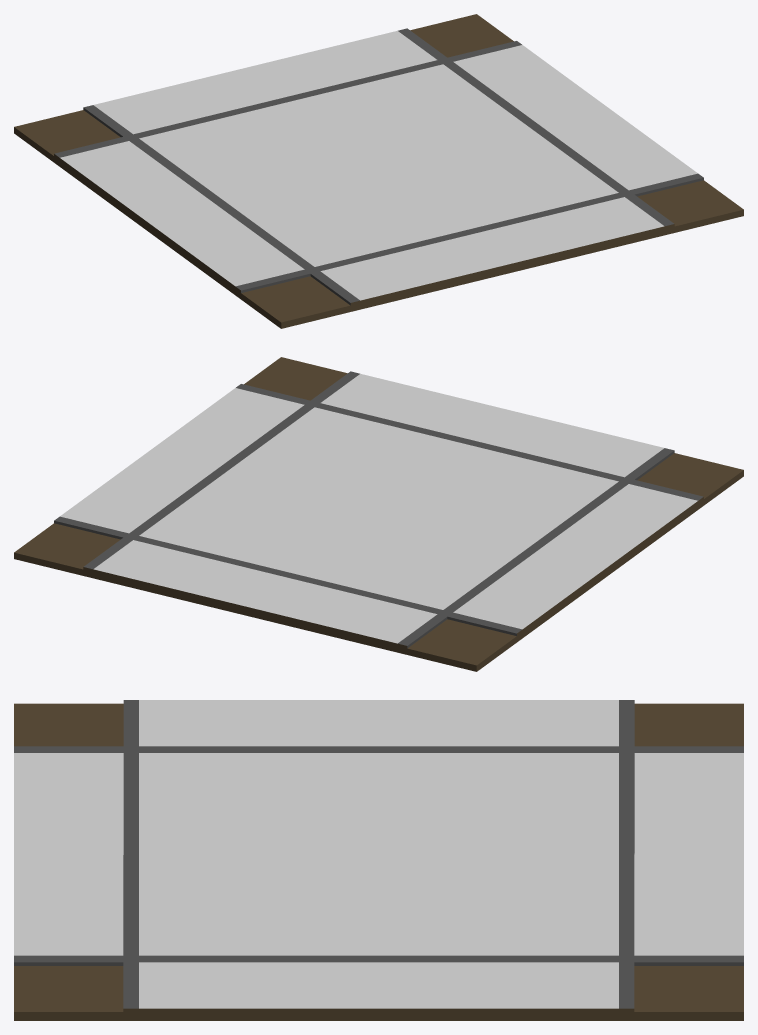
Rendered from Floor_Intersection_Corridor.fbx.
3 views of the same model, one above another, from view 1: azimuth 30°, elevation 25°; view 2: azimuth 150°, elevation 25°; view 3: azimuth 270°, elevation 25° (orthographic). The views are drawn at different scales.
Parts seen in each view (by area): view 1: Floor; view 2: Floor; view 3: Floor.
Part boxes in pixels (x1,y1,x2,y2): Floor: (14, 14, 743, 328); Floor: (14, 357, 743, 671); Floor: (14, 700, 743, 1020).
Size of the model in its own units: 600 by 11.21 by 600.
